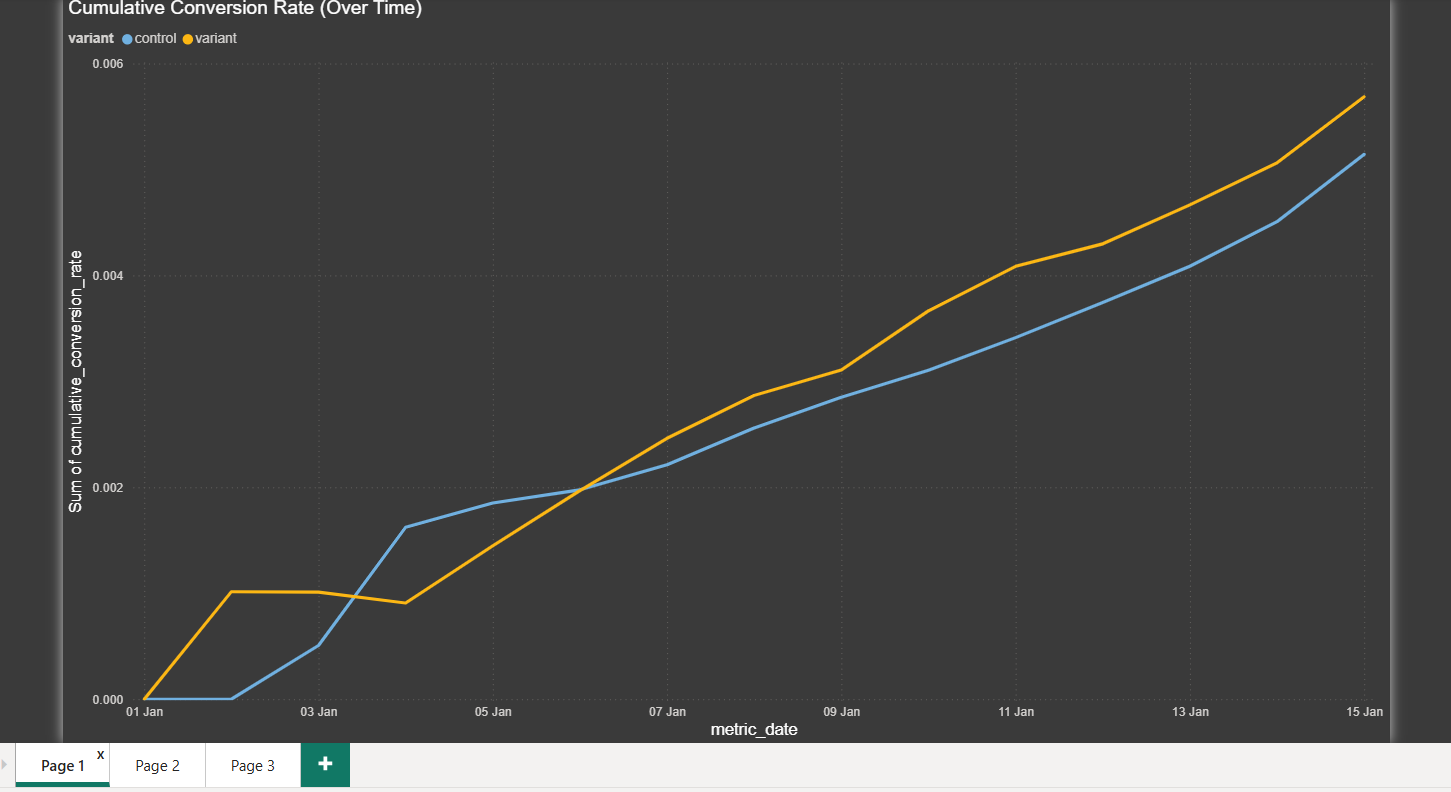

This screenshot's page, from the dashboard's own definition file:
{"tool":"powerbi","page":{"name":"Page 1","canvas":[1280,720],"ordinal":0},"visuals":[{"type":"lineChart","title":"Cumulative Conversion Rate (Over Time)","fields":{"Category":["daily_metrics.metric_date"],"Y":["Sum(daily_metrics.cumulative_conversion_rate)"],"Series":["daily_metrics.variant"]},"box":[0,0,1280,720.2],"z":0}]}

Visuals, with their boxes in screenshot pixels (x1, y1, x2, y2):
"Cumulative Conversion Rate (Over Time)" lineChart: <box>49,0,1391,740</box>
